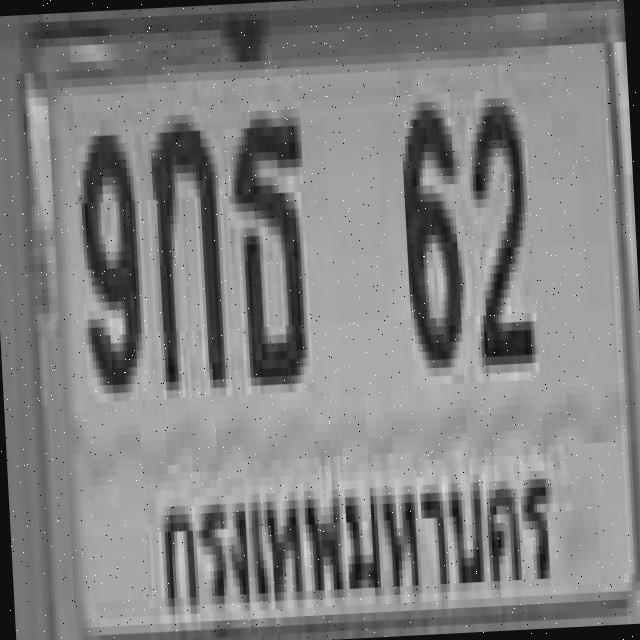10GorGai: (146, 110, 222, 386)
2: (465, 89, 532, 357)
33ThorThong: (228, 109, 310, 378)
6: (396, 92, 464, 360)
9: (75, 126, 142, 386)
Bangkok: (155, 464, 560, 622)
